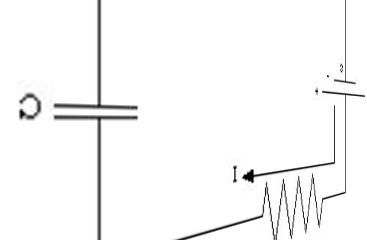resistor: (258, 166, 329, 239)
